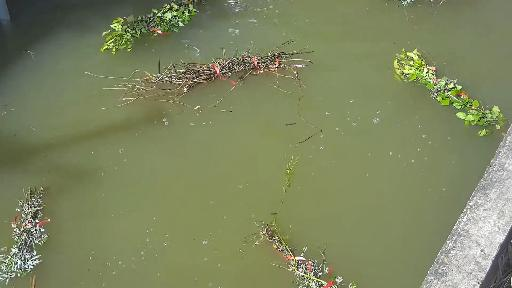twig: (238, 147, 369, 282), (102, 38, 327, 114), (379, 35, 512, 143), (95, 0, 209, 62), (0, 177, 51, 283), (372, 0, 440, 10), (24, 272, 44, 288)
